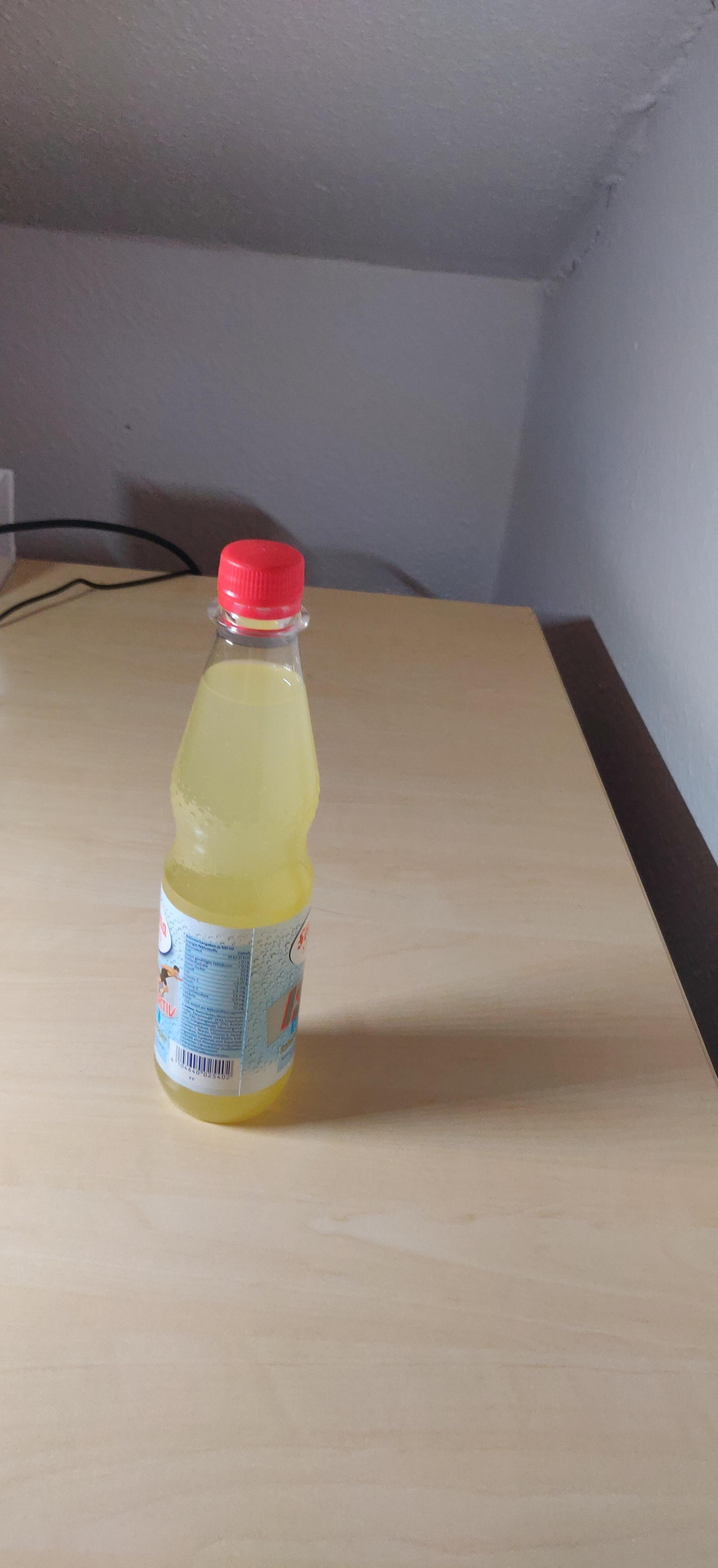bottle-plastic: (156, 531, 324, 1129)
